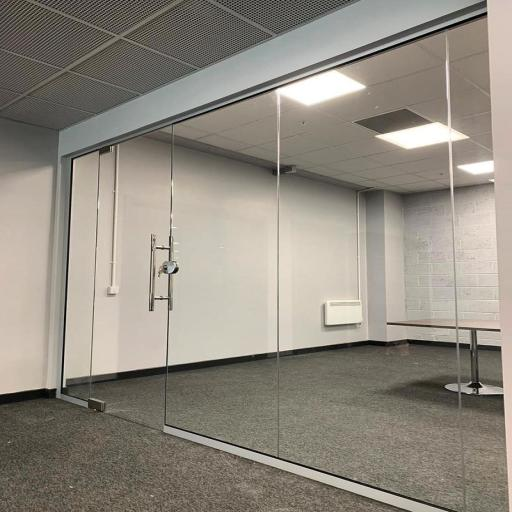child: (86, 117, 179, 438)
phone: (388, 319, 504, 396)
